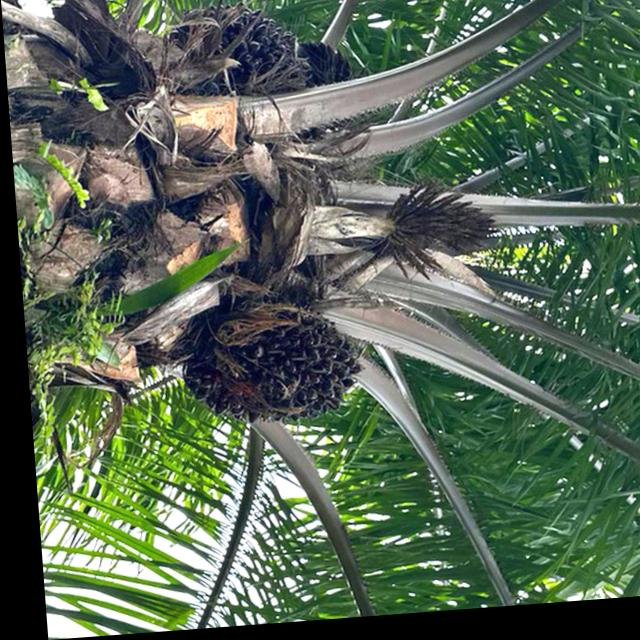almost: (163, 285, 369, 440), (156, 0, 320, 112)
